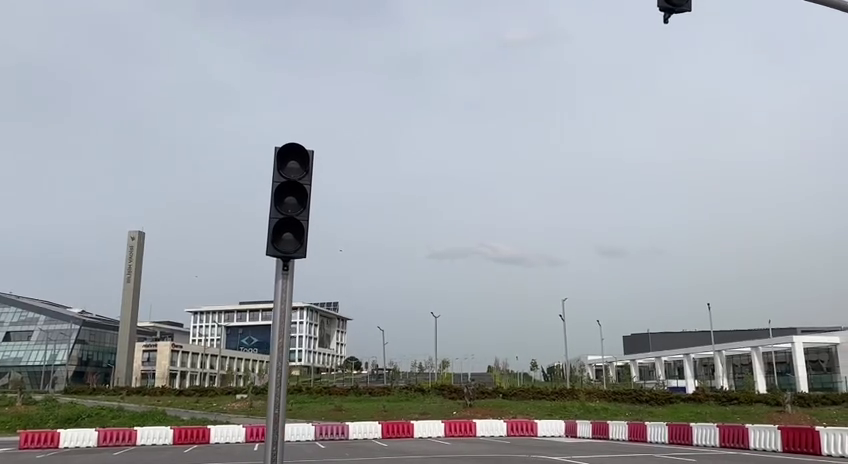trafficLight: (262, 139, 317, 265)
